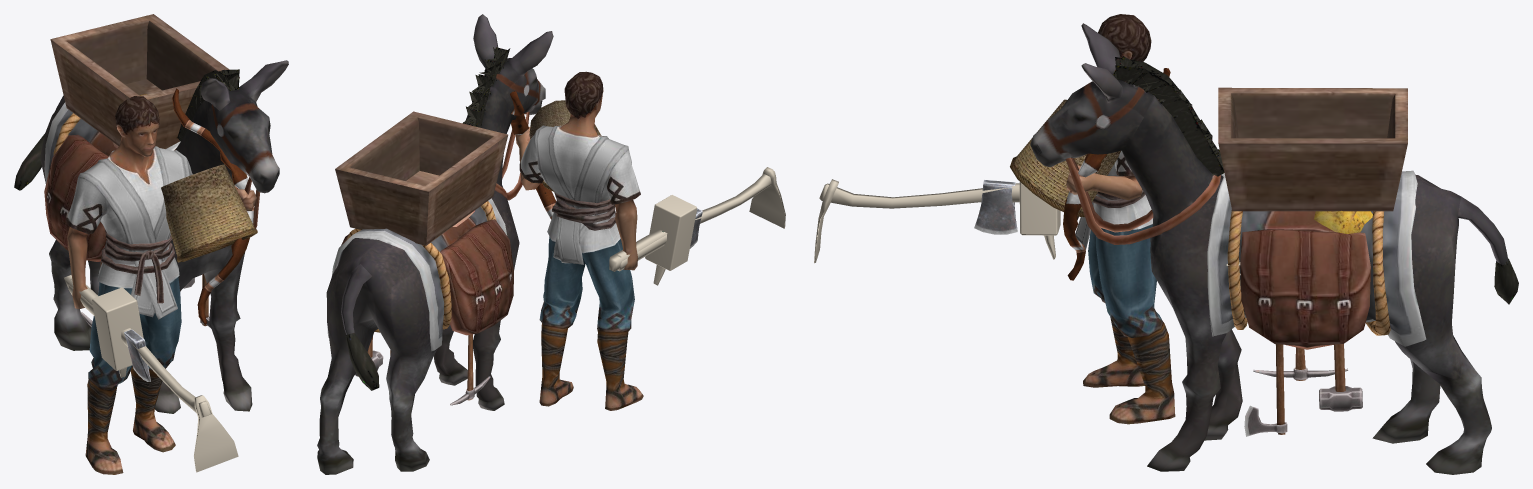
File: 238-villageratlantean.glb
3 renders of one model, left to right at view 1: azimuth 30°, elevation 25°; view 2: azimuth 150°, elevation 25°; view 3: azimuth 270°, elevation 25°, orthographic. The views are drawn at different scales.
Size of the model in its own units: 1.58 by 2.19 by 3.4.
Materials: 16 (11 with a texture image).
